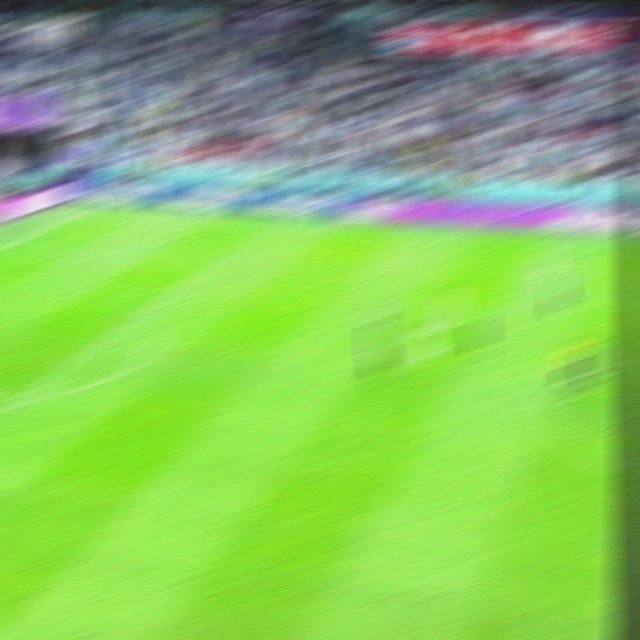bigarea_top_inner: (193, 257, 223, 274)
bigarea_top_outter: (0, 243, 13, 255)
bottom_arc_area_intersection: (5, 390, 35, 408)
corner: (71, 205, 102, 215)
top_arc_area_intersection: (120, 309, 149, 325)
